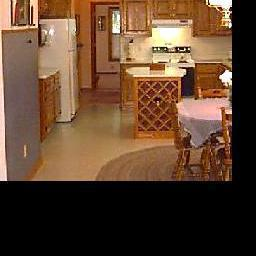Electrodomestico: (54, 21, 80, 121)
